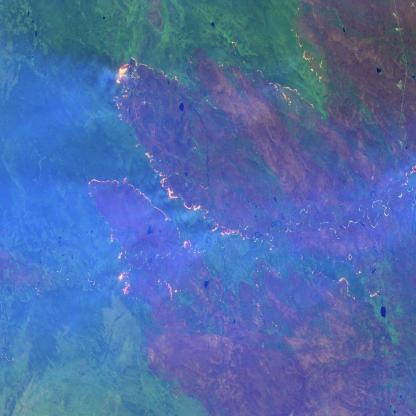fire: (89, 54, 244, 300)
